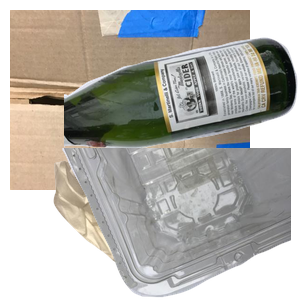cardboard: (10, 10, 250, 190)
glass: (64, 35, 300, 181)
plastic: (60, 148, 300, 300)
trash: (51, 142, 278, 300)
